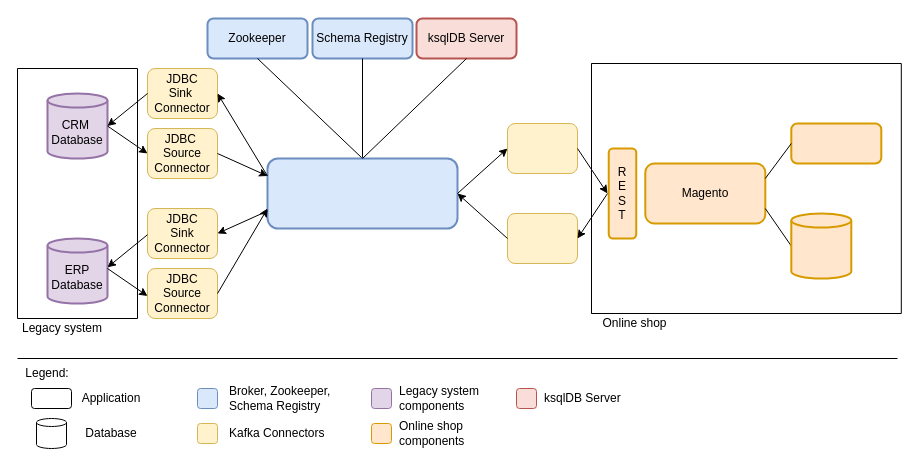
Some shapes in this 920 by 466 pixel diagram are drawn without their labels. The shapes that lost their labels are listed below. From the top down, each one's centre as x and y in pixels, then its label:
(542,148): HTTP Sink Connector
(836,143): Elasticsearch
(362,193): Kafka Broker
(542,238): HTTP Source Connector
(821,245): Magento Database
